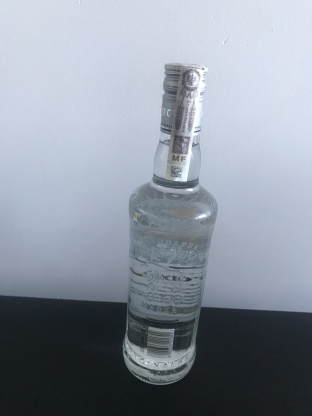nakretka: (158, 58, 210, 138)
